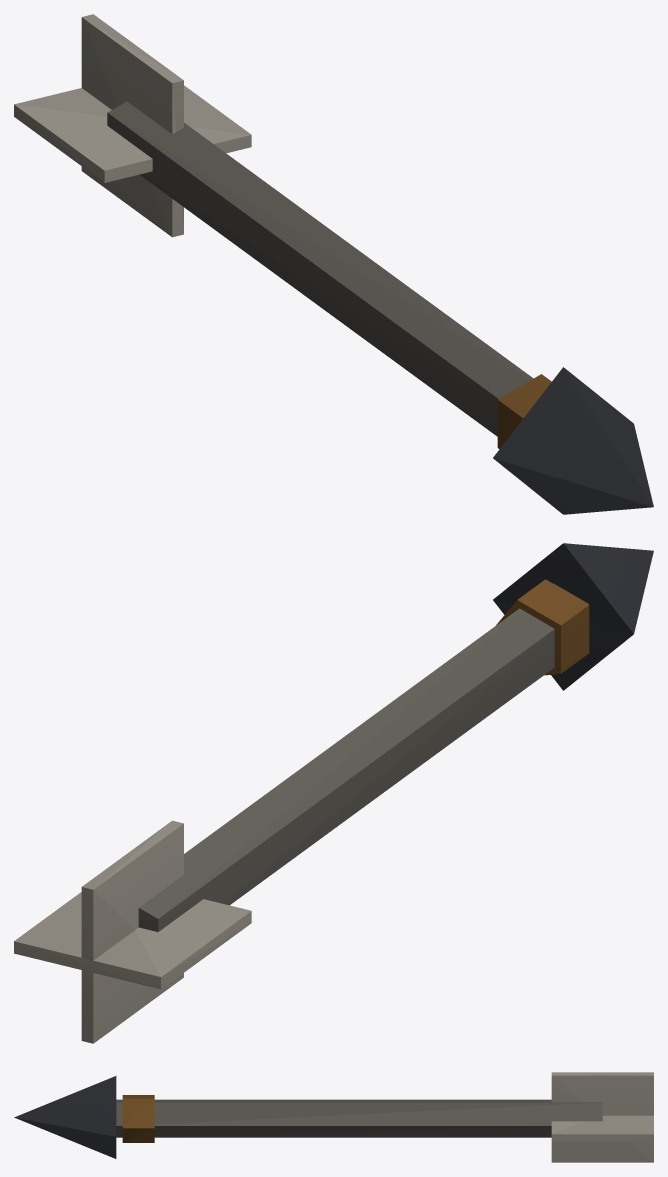
The model's file is ballista_bolt.glb.
3 views of the same model, one above another, from view 1: azimuth 30°, elevation 25°; view 2: azimuth 150°, elevation 25°; view 3: azimuth 270°, elevation 25° (orthographic). The views are drawn at different scales.
Parts seen in each view (by area): view 1: ballista_bolt; view 2: ballista_bolt; view 3: ballista_bolt.
Boxes of the visible parts, x1=… form: ballista_bolt: x1=14, y1=14, x2=653, y2=514; ballista_bolt: x1=14, y1=543, x2=653, y2=1043; ballista_bolt: x1=14, y1=1072, x2=653, y2=1162.
Bounding box in the file's own units: 0.075 × 0.075 × 0.5.
